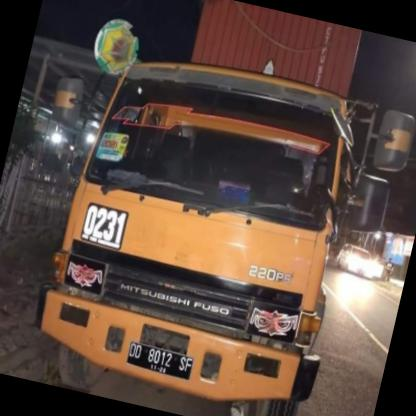truck: (26, 33, 376, 416)
